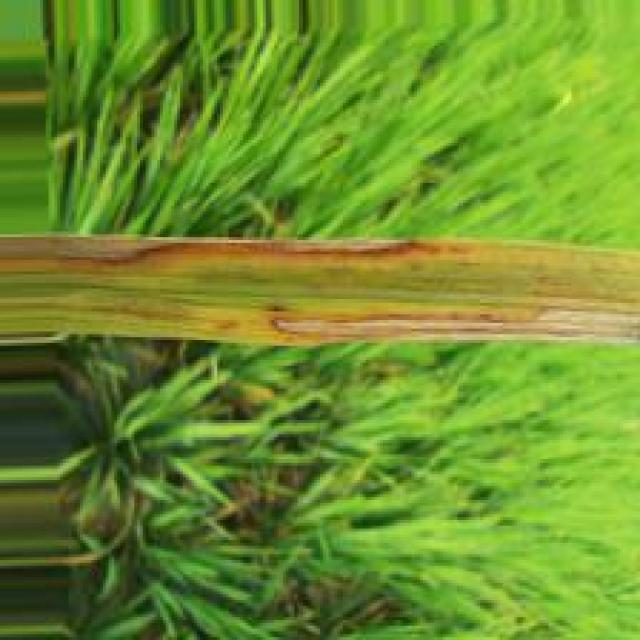Rice Tungro: (0, 235, 432, 272), (262, 305, 635, 342)
